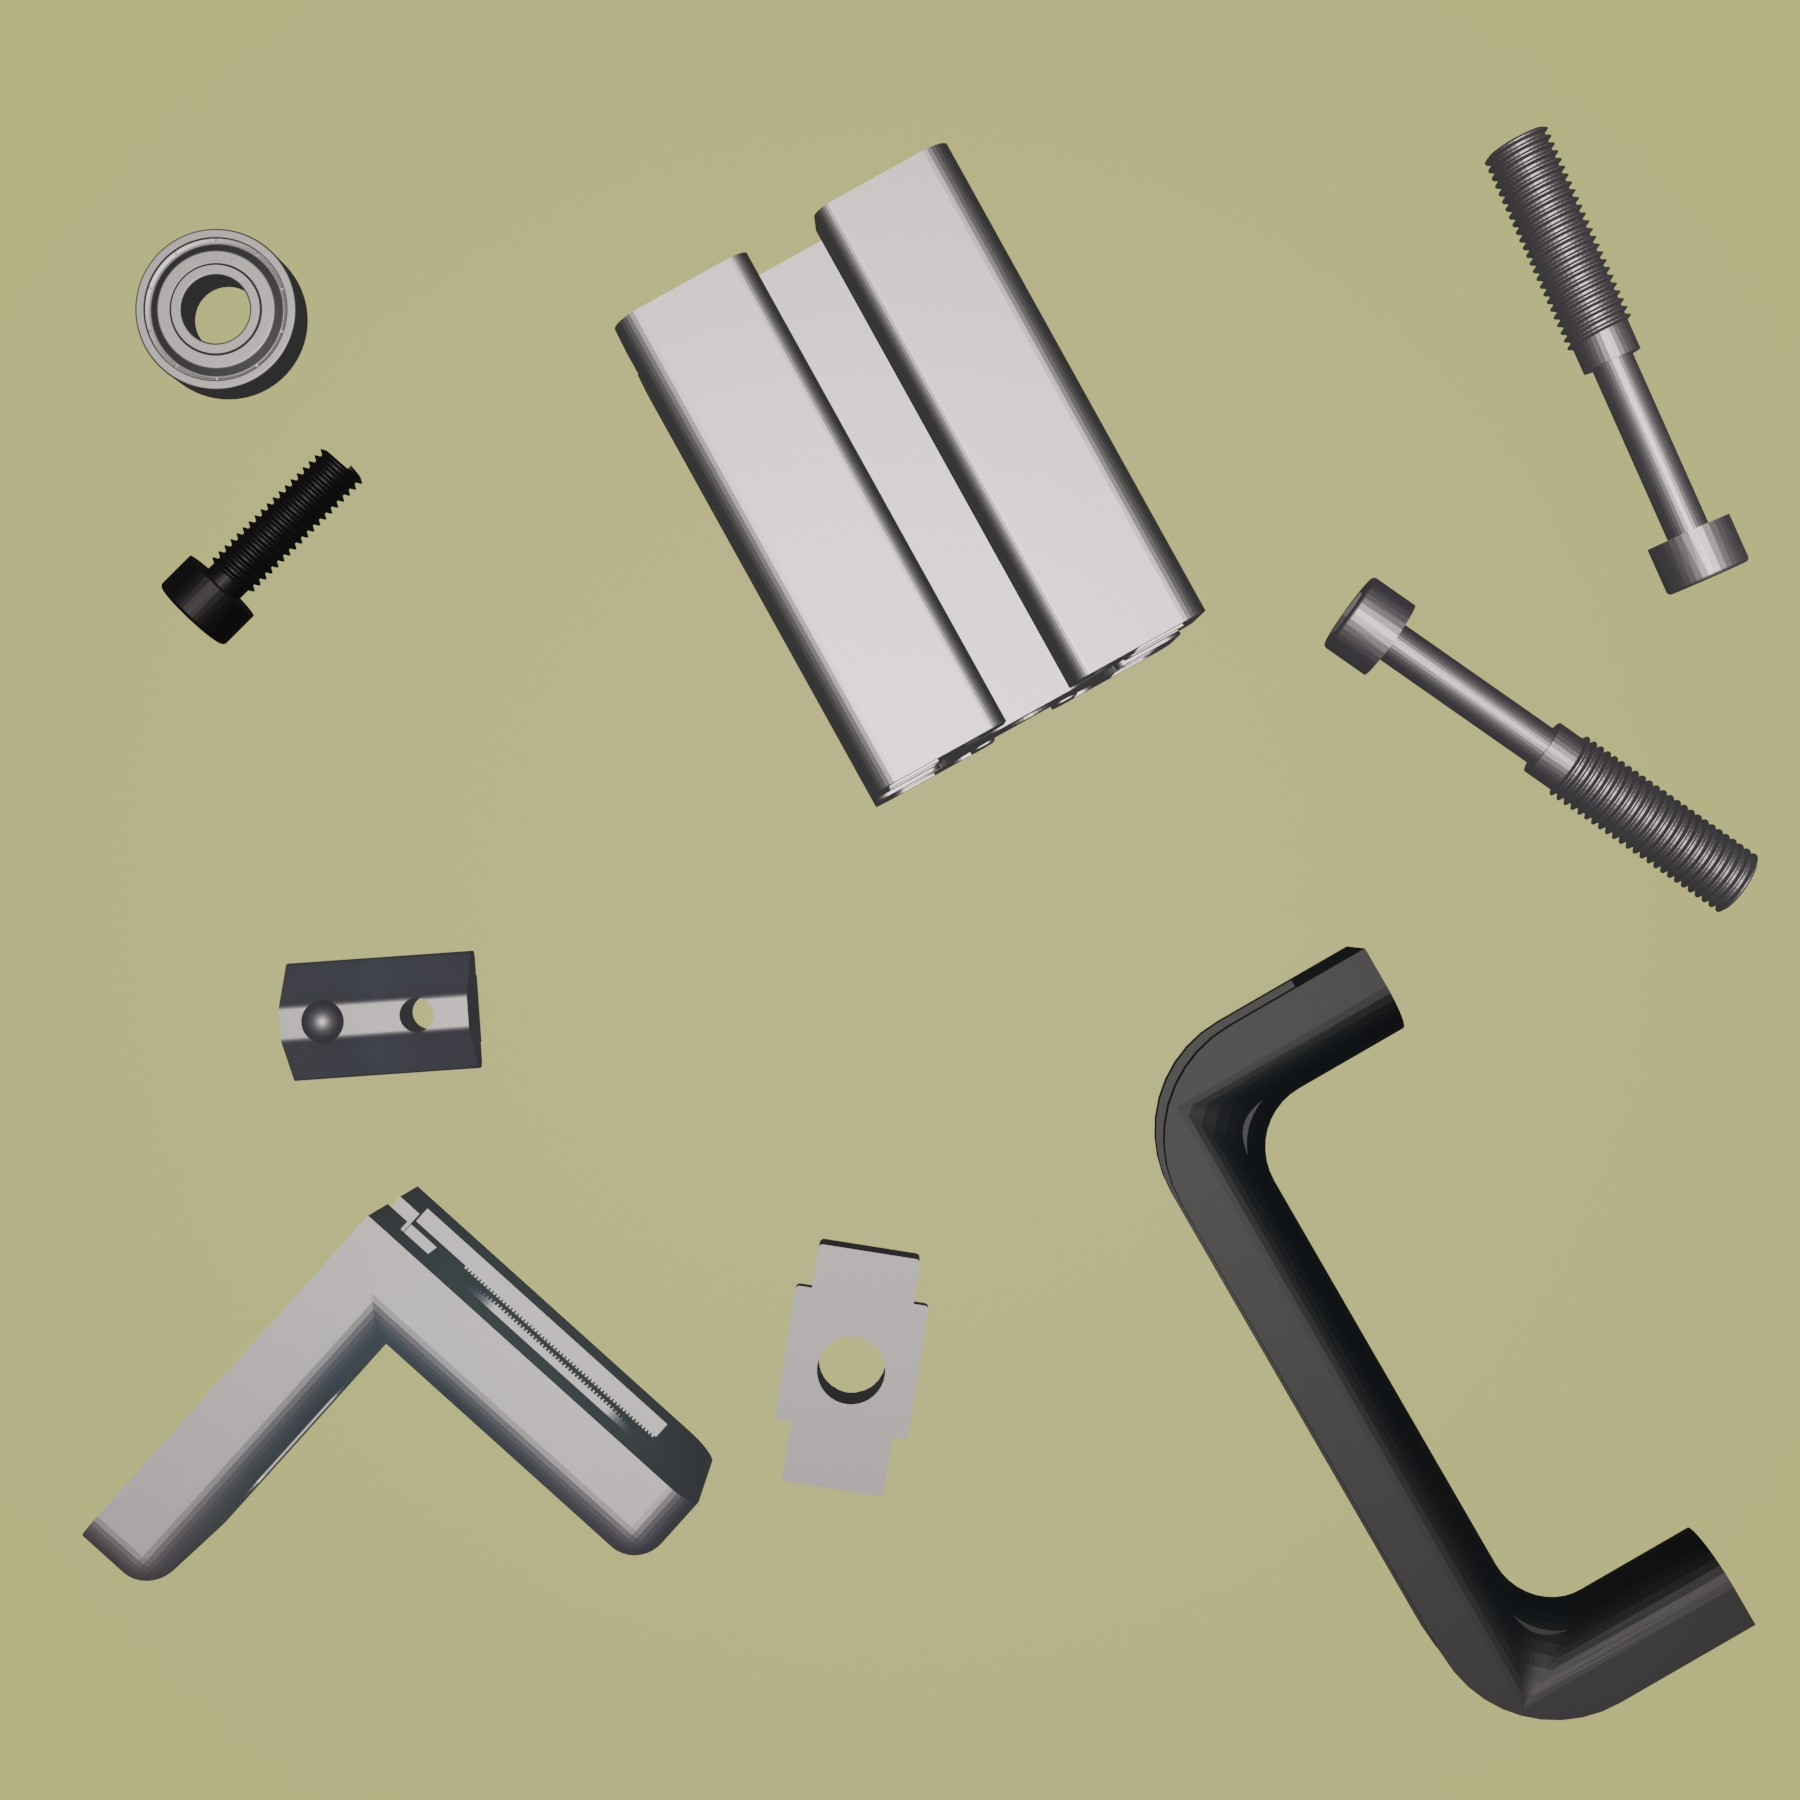Aluminium Extension: (608, 142, 1208, 809)
Ball Bearing: (130, 224, 308, 402)
Multiwinkel: (77, 1180, 715, 1581)
Pull Handle: (1151, 943, 1759, 1723)
Shoulder Socket Head Cap Screw: (1319, 574, 1762, 913), (1479, 122, 1751, 597)
Socket Head Cap Screw: (158, 445, 366, 649)
T Nut Square: (771, 1231, 936, 1500)
T Spring Nut: (274, 945, 486, 1085)
